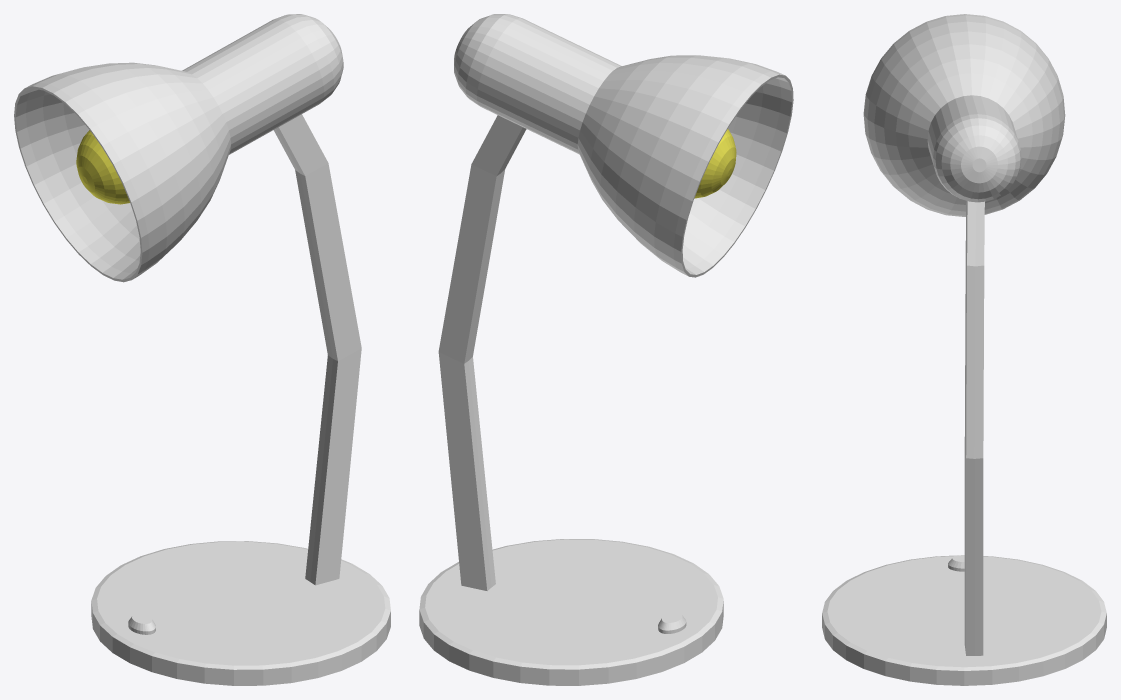
File: Lamp.fbx
3 renders of one model, left to right at view 1: azimuth 30°, elevation 25°; view 2: azimuth 150°, elevation 25°; view 3: azimuth 270°, elevation 25°, orthographic. The views are drawn at different scales.
Parts seen in each view (by area): view 1: Cylinder; view 2: Cylinder; view 3: Cylinder.
Boxes of the visible parts, bbox=[...] form: Cylinder: bbox=[14, 14, 390, 685]; Cylinder: bbox=[419, 14, 793, 685]; Cylinder: bbox=[822, 14, 1106, 685].
Size of the model in its own units: 25.46 by 44.95 by 21.48.
